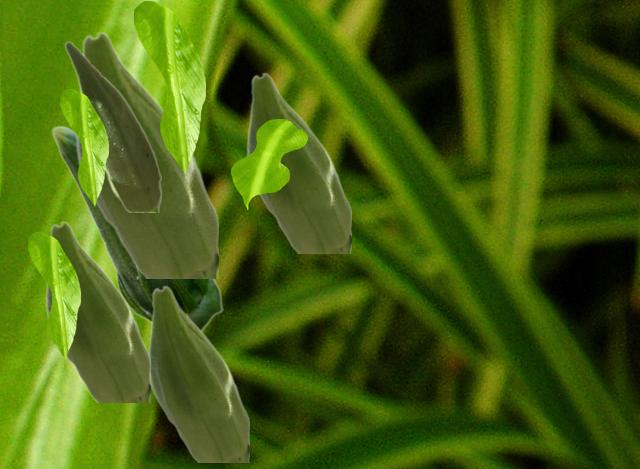okra: (51, 125, 222, 330), (75, 31, 217, 277), (246, 72, 350, 252), (45, 221, 149, 401), (148, 285, 248, 461), (64, 40, 160, 211)
